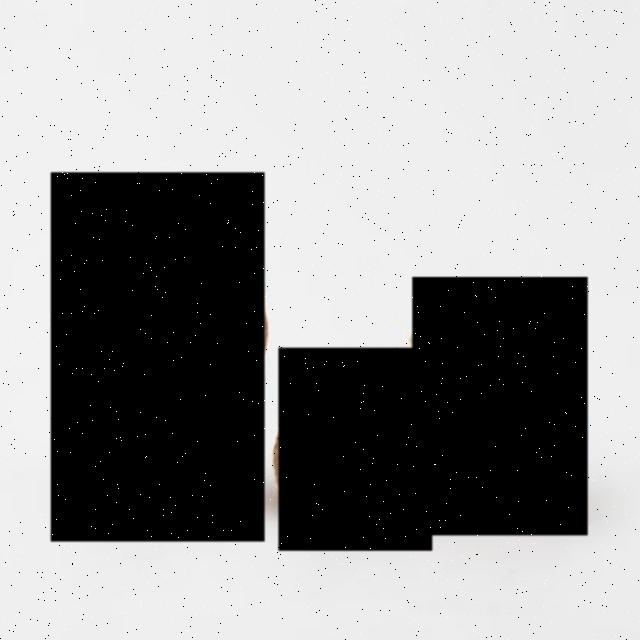Mushroom: (51, 173, 264, 541), (412, 278, 588, 536), (278, 348, 432, 550)
